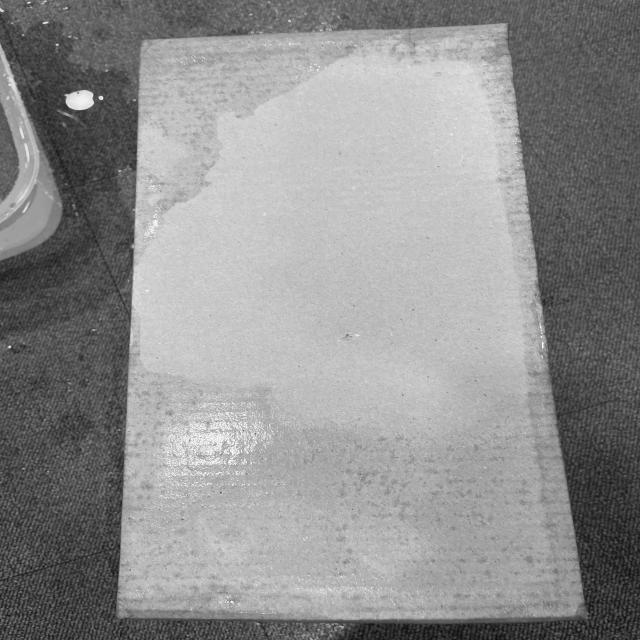wet: (123, 386, 573, 634), (134, 24, 519, 264)
